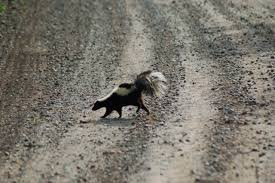skunk: (91, 70, 169, 120)
